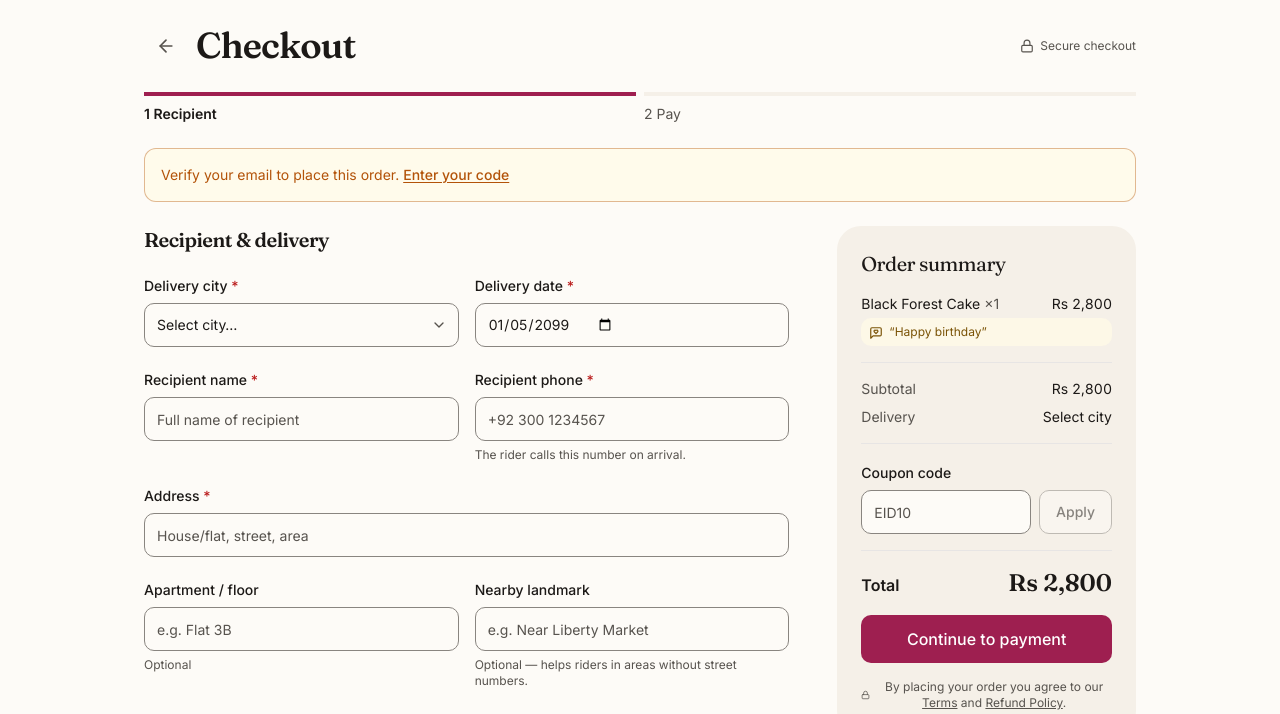
it: CheckoutPage › reviews the recipient on the payment step and starts from the day picked for the gift
Select "Lahore" in the dropdown labelled "Delivery city *" at (301, 325), box [144,303,459,347]
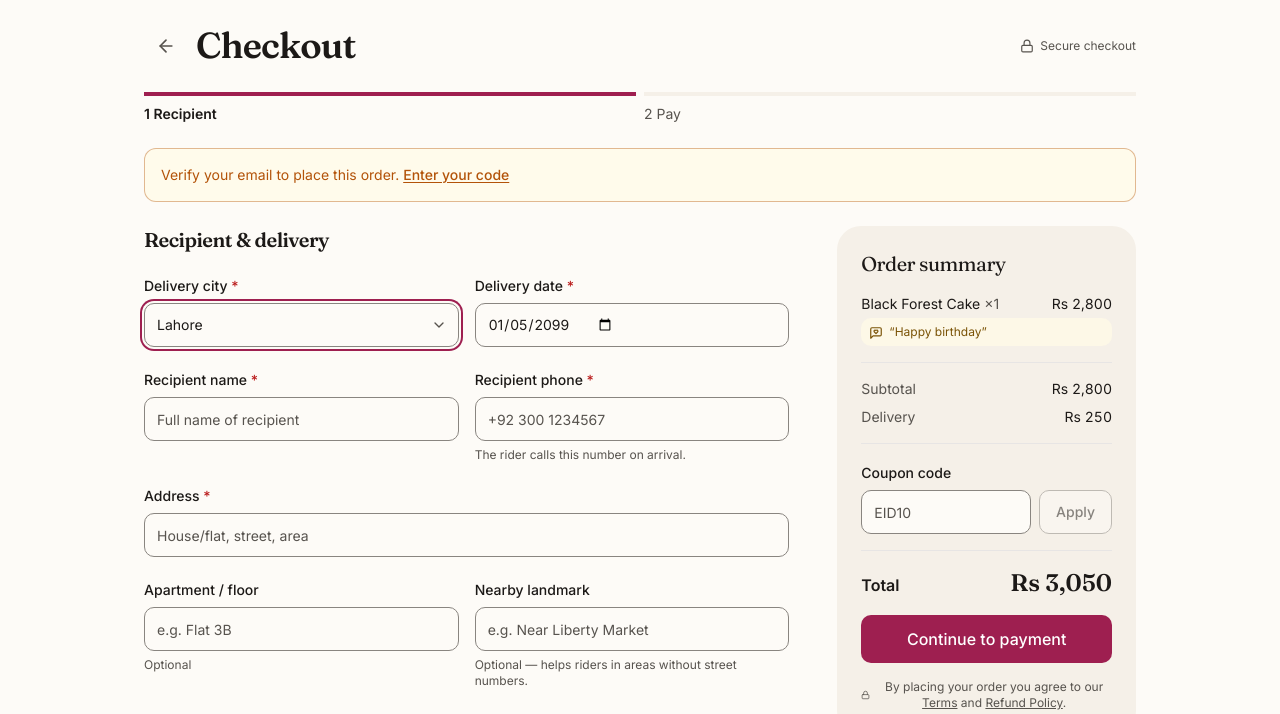
Expected: the date field labelled "Delivery date *" holds "2099-01-05", [475,303,789,347]
Type "Ammi" into the field labelled "Recipient name *" at (301, 419), box [144,397,459,441]
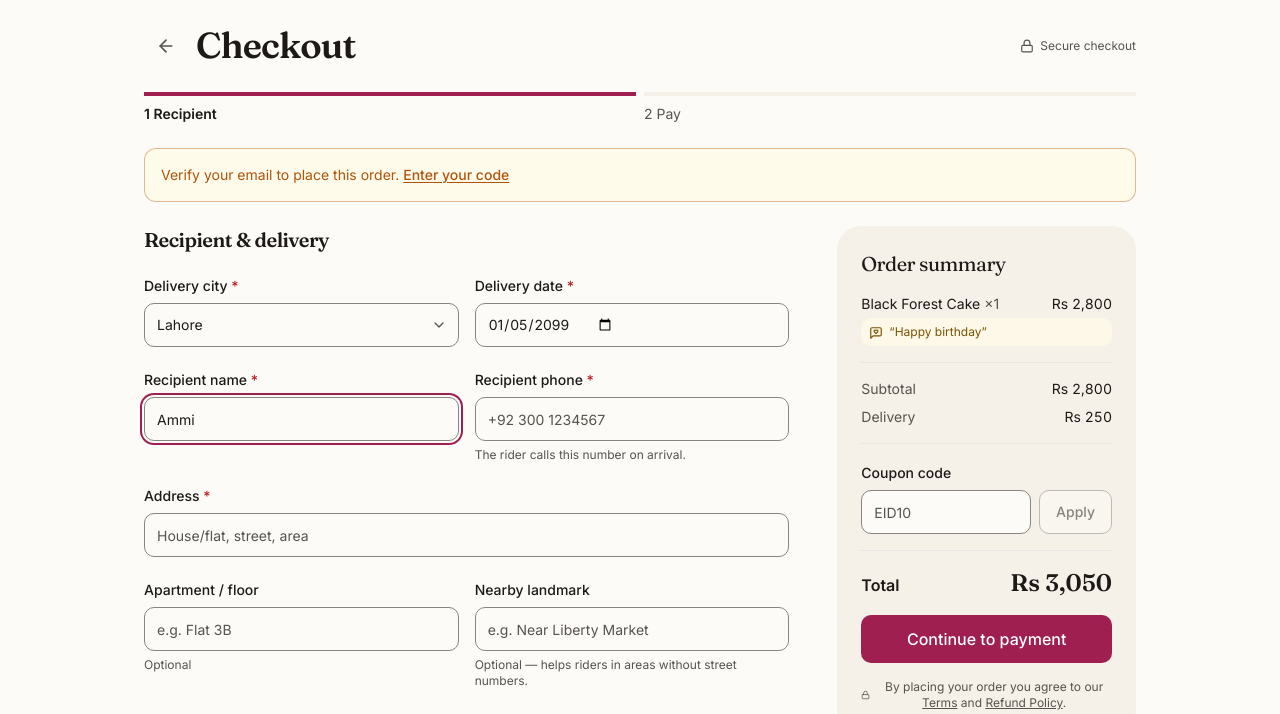
Type "+923001234567" into the field labelled "Recipient phone *" at (632, 419), box [475,397,789,441]
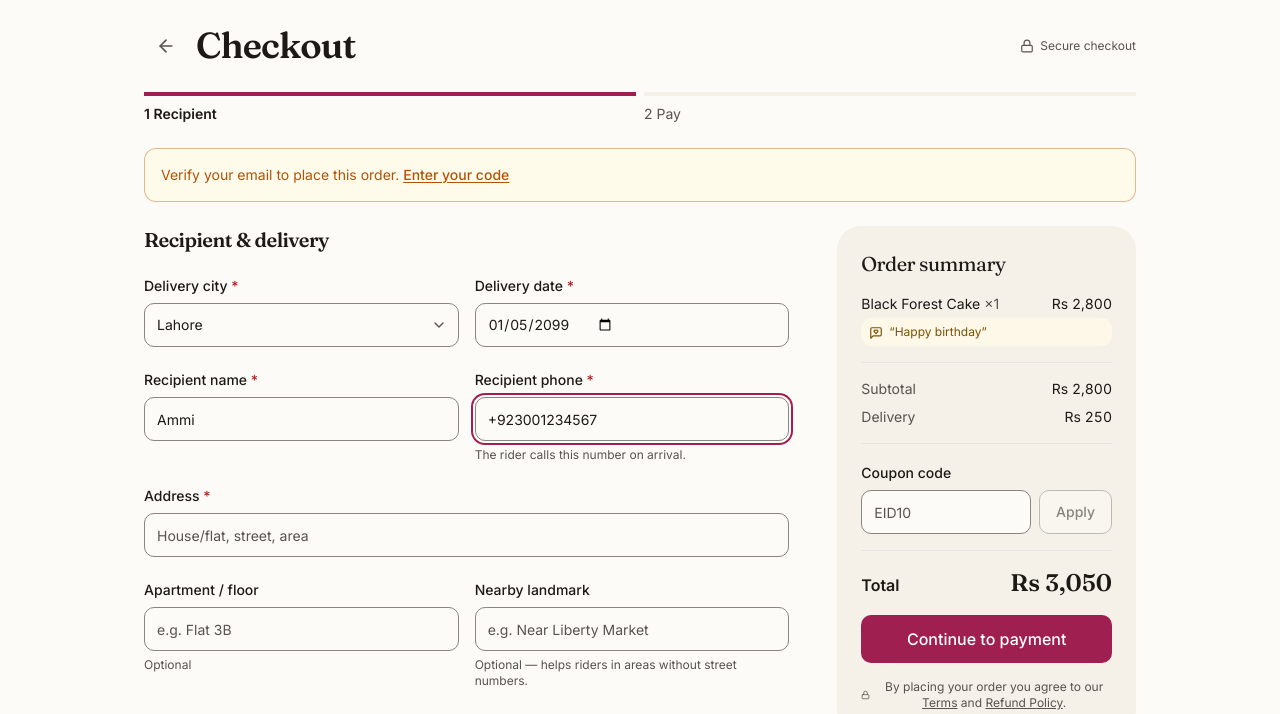
Type "12 Main Boulevard" into the field labelled "Address *" at (467, 535), box [144,513,789,557]
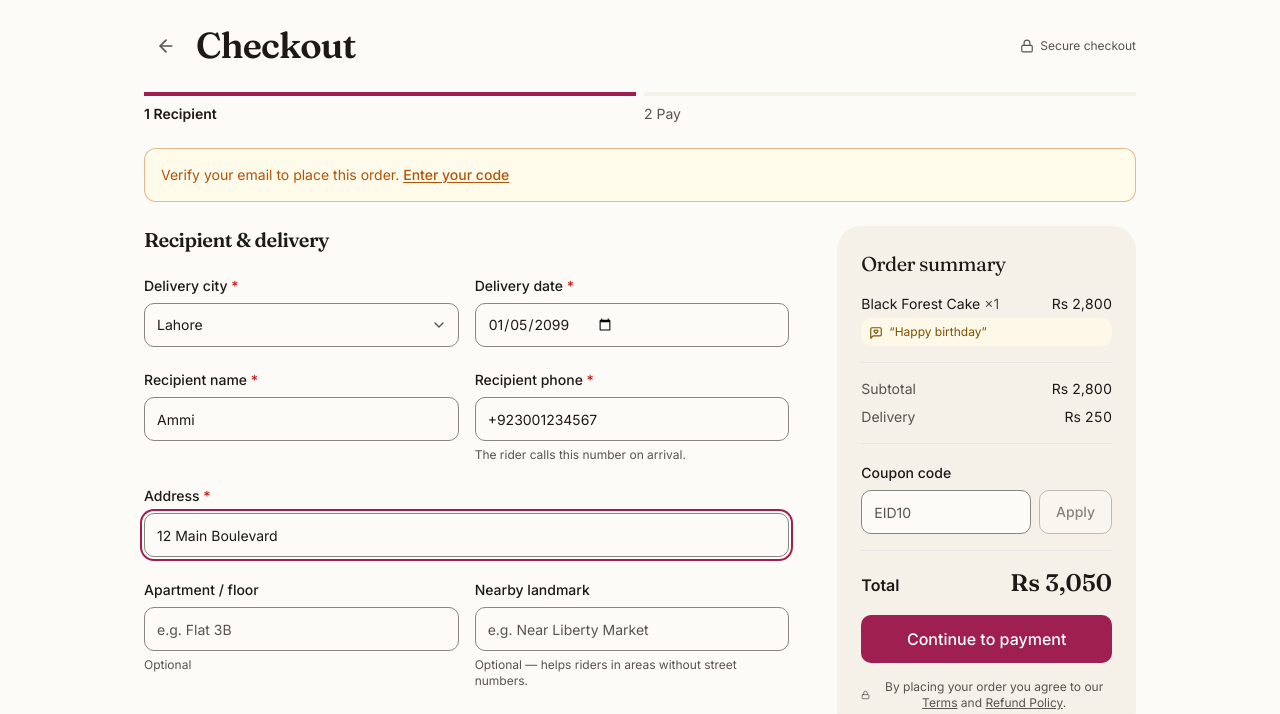
Click the button "Continue to payment" at (987, 639), box [861,615,1112,663]
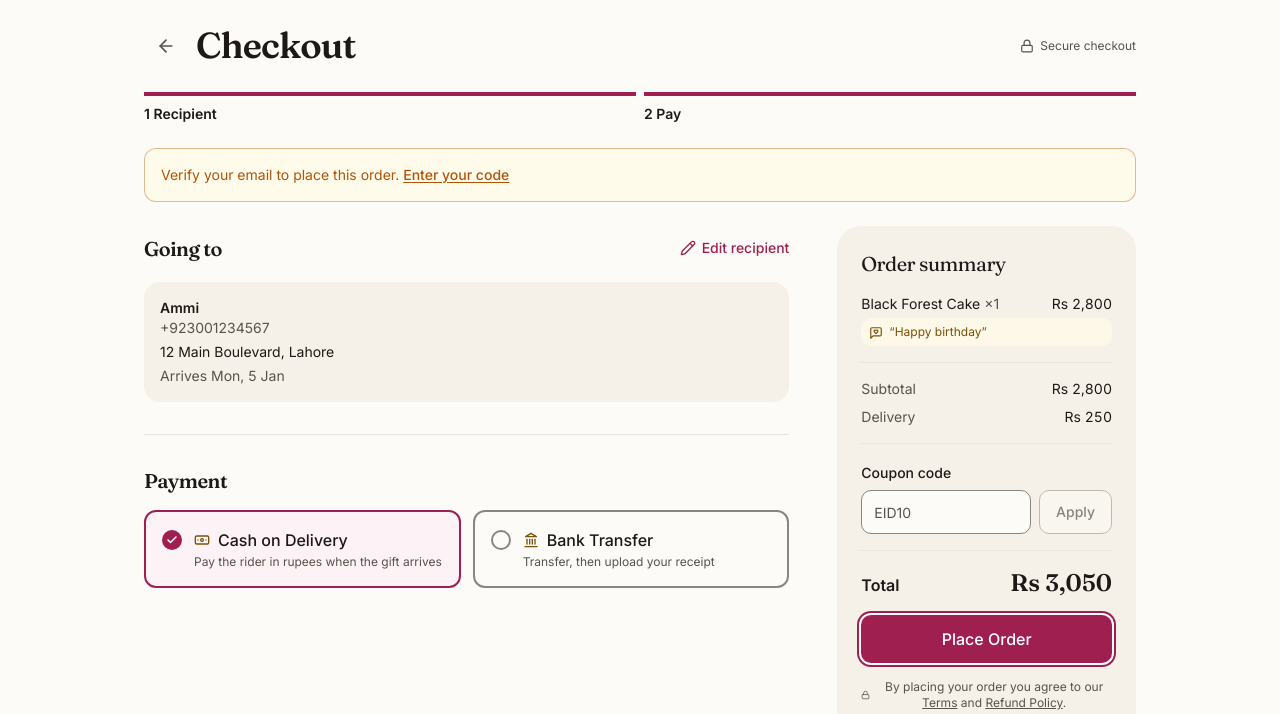
Expected: the element "Going to" shows "Ammi", [160,299,199,316]
Expected: the element "Going to" shows "12 Main Boulevard, Lahore", [160,343,334,360]
Expected: the element "Going to" shows "Arrives Mon, 5 Jan", [144,226,789,402]
